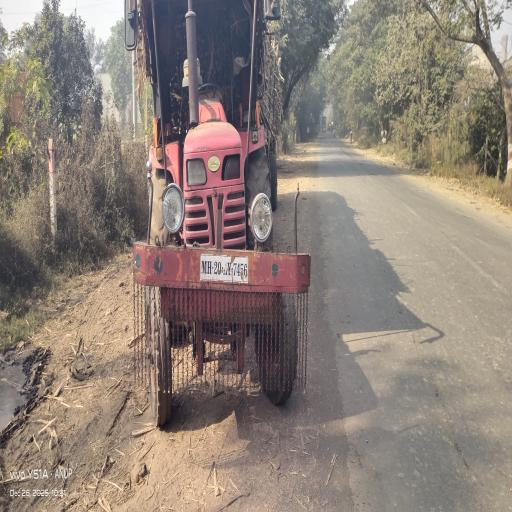number_plate: (198, 251, 251, 290)
